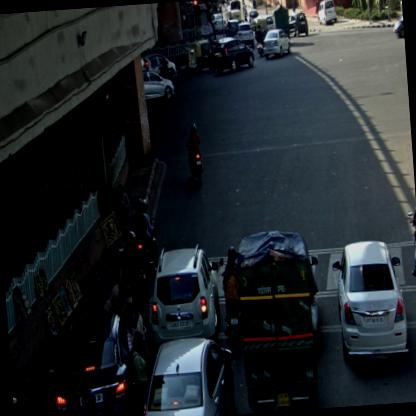car: (330, 239, 411, 369), (50, 311, 141, 415), (142, 240, 223, 350), (131, 334, 237, 415), (213, 36, 255, 74), (142, 52, 178, 84), (143, 68, 175, 101), (261, 29, 292, 61), (316, 0, 339, 29), (286, 10, 308, 38), (237, 21, 255, 50), (392, 8, 404, 42), (212, 13, 226, 34)
motorcycle: (118, 230, 150, 324), (219, 242, 245, 348), (130, 195, 160, 280), (400, 187, 415, 286), (184, 120, 205, 184), (13, 395, 42, 415), (256, 22, 266, 56)
truck: (236, 231, 320, 413), (272, 3, 290, 38)
